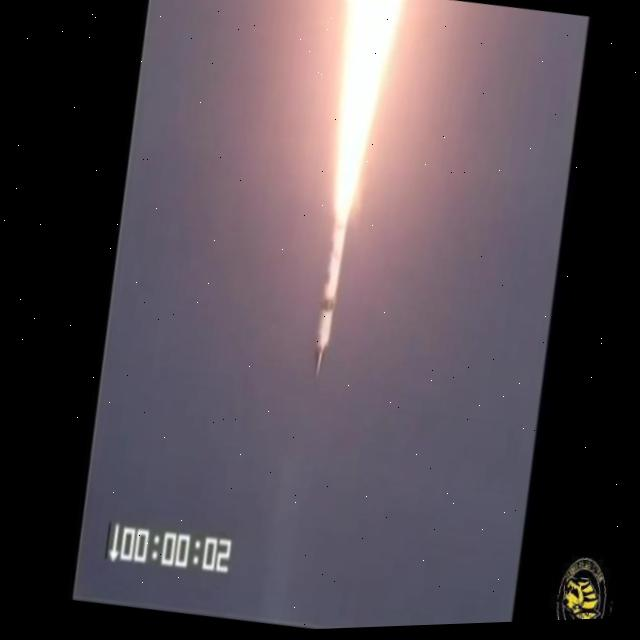missile: (303, 212, 352, 369)
